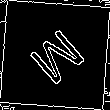M_SE: (21, 21, 89, 89)
